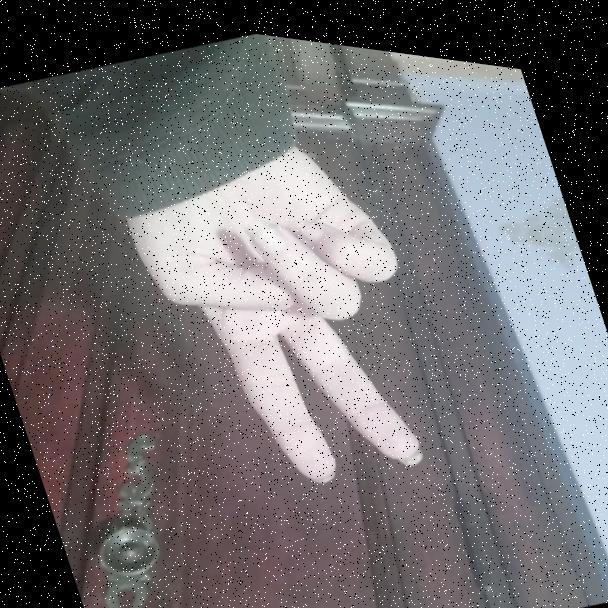two: (108, 114, 464, 528)
